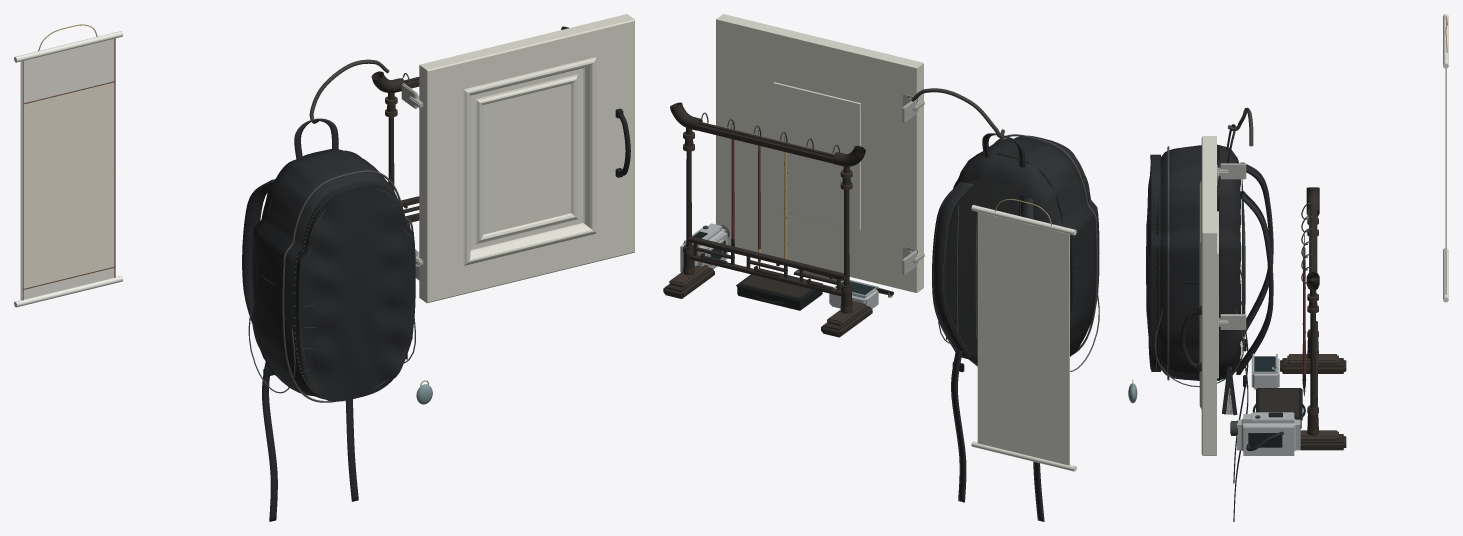
Rendered from desk-video-details.glb.
3 renders of one model, left to right at view 1: azimuth 30°, elevation 25°; view 2: azimuth 150°, elevation 25°; view 3: azimuth 270°, elevation 25°, orthographic. The views are drawn at different scales.
Parts seen in each view (by area): view 1: CabinetDoorInset, BackpackFrontFlapFace, ScrollCalligraphyPaper, CabinetDoorHandle, BackpackMainRoundedShell, ScrollBacking, BackpackPaddedShoulderStrap-1, BackpackFrontFlapSoftEdge, BackpackHangingWebbingTail-1, BackpackMainSeam, BackpackHangingWebbingTail1, ScrollRoller.001 (+1 smaller); view 2: CabinetDoorInset, ScrollBacking, CabinetDoorHandle, BackpackMainRoundedShell, BackpackPaddedRear, BackpackPaddedShoulderStrap1, RackSixHookCrossbar, RackLatticeUpperRail, RackPiercedSquareLattice, BackpackHangingWebbingTail1, RackLowerRail, InkstoneLidRaisedPanel (+10 smaller); view 3: BackpackMainRoundedShell, CabinetDoorInset, BackpackFrontFlapSoftEdge, CamcorderSilverHousing, BackpackPaddedShoulderStrap1, InkstoneLidRaisedPanel, BackpackFrontFlapFace, BackpackPaddedShoulderStrap-1, BackpackMainSeam, RackFoot, RackSixHookCrossbar, RackTurnedPost.005 (+10 smaller).
Boxes of the visible parts, bbox=[...] form: CabinetDoorInset: bbox=[419, 14, 634, 303]; BackpackFrontFlapFace: bbox=[298, 184, 415, 401]; ScrollCalligraphyPaper: bbox=[24, 82, 113, 288]; CabinetDoorHandle: bbox=[483, 84, 571, 234]; BackpackMainRoundedShell: bbox=[252, 149, 410, 399]; ScrollBacking: bbox=[20, 38, 115, 300]; BackpackPaddedShoulderStrap-1: bbox=[242, 179, 275, 324]; BackpackFrontFlapSoftEdge: bbox=[295, 181, 415, 394]; BackpackHangingWebbingTail-1: bbox=[262, 362, 277, 521]; BackpackMainSeam: bbox=[282, 170, 413, 402]; BackpackHangingWebbingTail1: bbox=[345, 399, 358, 501]; ScrollRoller.001: bbox=[14, 31, 123, 62]; CabinetDoorInset: bbox=[716, 14, 923, 292]; ScrollBacking: bbox=[977, 212, 1069, 465]; CabinetDoorHandle: bbox=[773, 82, 860, 230]; BackpackMainRoundedShell: bbox=[953, 138, 1095, 366]; BackpackPaddedRear: bbox=[947, 179, 1038, 358]; BackpackPaddedShoulderStrap1: bbox=[932, 180, 973, 359]; RackSixHookCrossbar: bbox=[696, 121, 833, 163]; RackLatticeUpperRail: bbox=[686, 236, 845, 279]; RackPiercedSquareLattice: bbox=[693, 243, 840, 290]; BackpackHangingWebbingTail1: bbox=[951, 350, 966, 502]; RackLowerRail: bbox=[688, 255, 842, 296]; InkstoneLidRaisedPanel: bbox=[741, 274, 811, 298]; BackpackMainRoundedShell: bbox=[1158, 144, 1240, 380]; CabinetDoorInset: bbox=[1199, 136, 1216, 455]; BackpackFrontFlapSoftEdge: bbox=[1151, 154, 1160, 371]; CamcorderSilverHousing: bbox=[1237, 414, 1300, 455]; BackpackPaddedShoulderStrap1: bbox=[1236, 191, 1272, 374]; InkstoneLidRaisedPanel: bbox=[1259, 388, 1298, 417]; BackpackFrontFlapFace: bbox=[1146, 154, 1151, 369]; BackpackPaddedShoulderStrap-1: bbox=[1240, 162, 1272, 340]; BackpackMainSeam: bbox=[1167, 146, 1169, 380]; RackFoot: bbox=[1280, 358, 1346, 373]; RackSixHookCrossbar: bbox=[1309, 208, 1317, 281]; RackTurnedPost.005: bbox=[1310, 313, 1315, 408].
Bounding box in the file's own units: 1.94 × 1.61 × 1.13.
